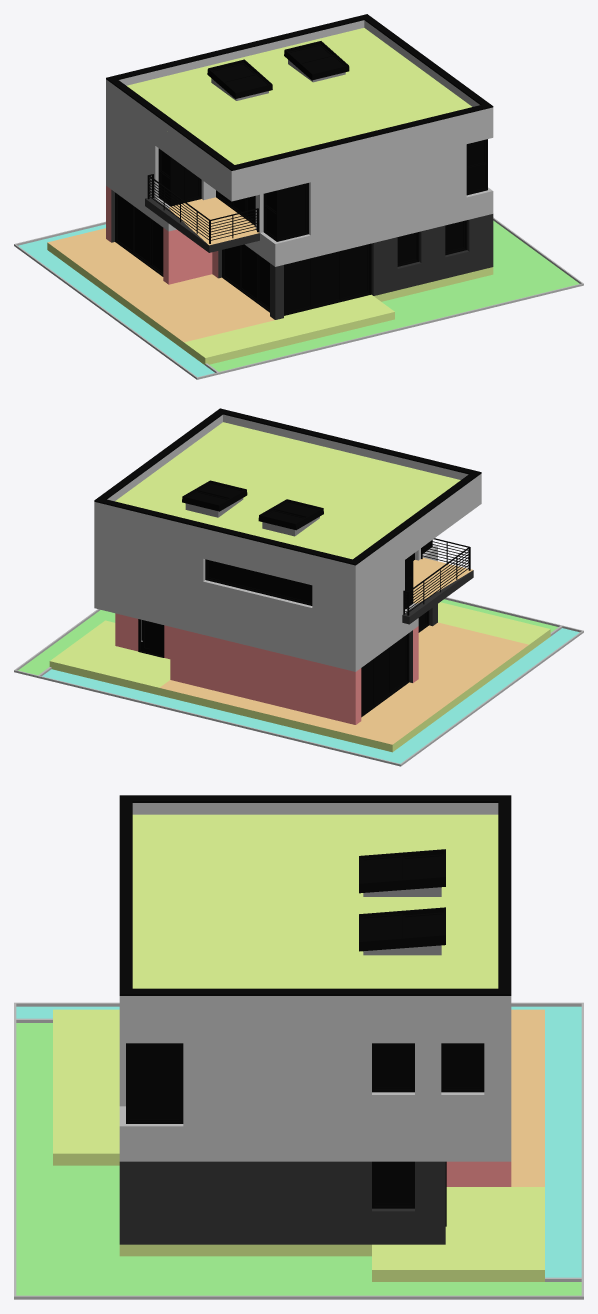
File: modern_house.FBX
3 renders of one model, top to bottom at view 1: azimuth 30°, elevation 25°; view 2: azimuth 150°, elevation 25°; view 3: azimuth 270°, elevation 25°, orthographic. The views are drawn at different scales.
Visible parts, largest first — view 1: MH01_OBJ01, MH01_OBJ03, MH01_OBJ04, MH01_OBJ02; view 2: MH01_OBJ01, MH01_OBJ03, MH01_OBJ04, MH01_OBJ02; view 3: MH01_OBJ01, MH01_OBJ03, MH01_OBJ04.
Boxes of the visible parts, bbox=[...] form: MH01_OBJ01: bbox=[106, 14, 493, 319]; MH01_OBJ03: bbox=[14, 217, 583, 379]; MH01_OBJ04: bbox=[115, 41, 487, 315]; MH01_OBJ02: bbox=[145, 174, 259, 252]; MH01_OBJ01: bbox=[94, 408, 481, 724]; MH01_OBJ03: bbox=[14, 597, 583, 766]; MH01_OBJ04: bbox=[138, 480, 432, 717]; MH01_OBJ02: bbox=[402, 538, 473, 624]; MH01_OBJ01: bbox=[119, 795, 511, 1256]; MH01_OBJ03: bbox=[14, 1002, 583, 1299]; MH01_OBJ04: bbox=[126, 849, 484, 1226].
Size of the model in its own units: 639 by 524 by 274.
